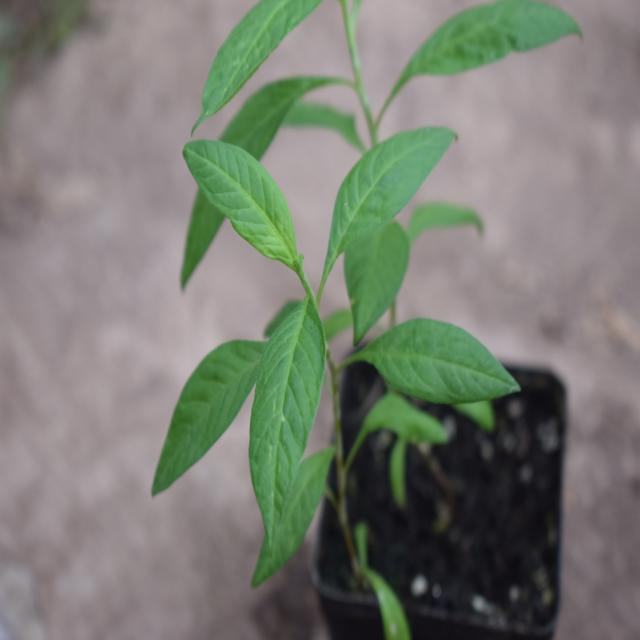white_smart_weed: (152, 74, 487, 574)
